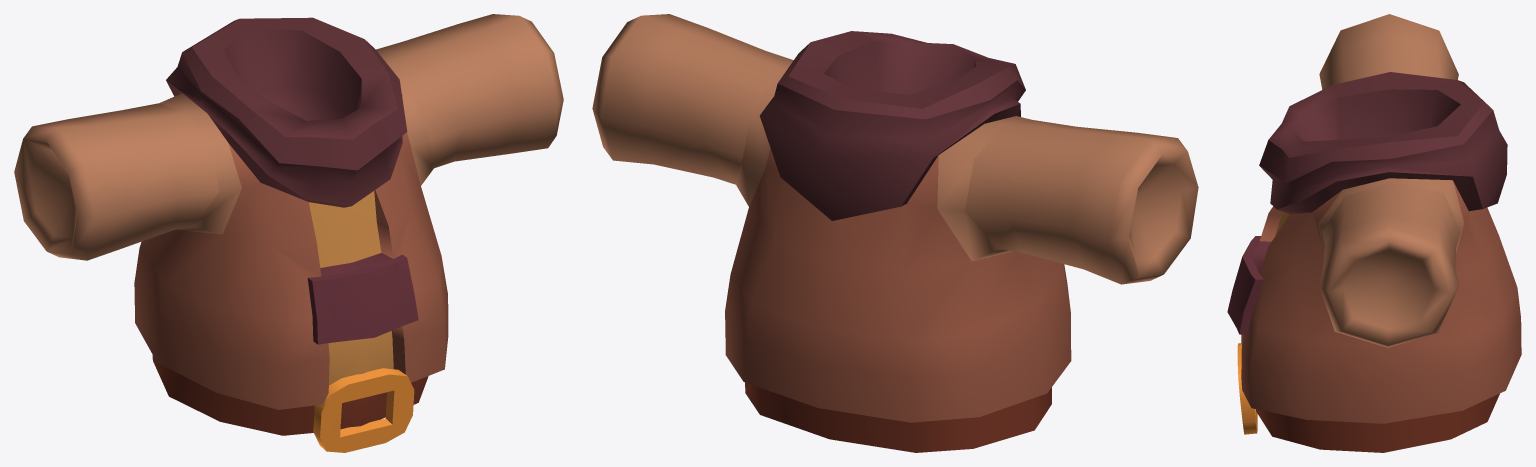
Rendered from Chest_19.fbx.
The picture shows the model from 3 angles, left to right: view 1: azimuth 30°, elevation 25°; view 2: azimuth 150°, elevation 25°; view 3: azimuth 270°, elevation 25°; orthographic projection. The views are drawn at different scales.
Parts seen in each view (by area): view 1: Chest_19; view 2: Chest_19; view 3: Chest_19.
Part boxes in pixels (left/top/right/bottom): Chest_19: left=14, top=14, right=563, bottom=452; Chest_19: left=592, top=14, right=1198, bottom=452; Chest_19: left=1227, top=14, right=1521, bottom=452.
Size of the model in its own units: 77.76 by 51.56 by 43.15.
